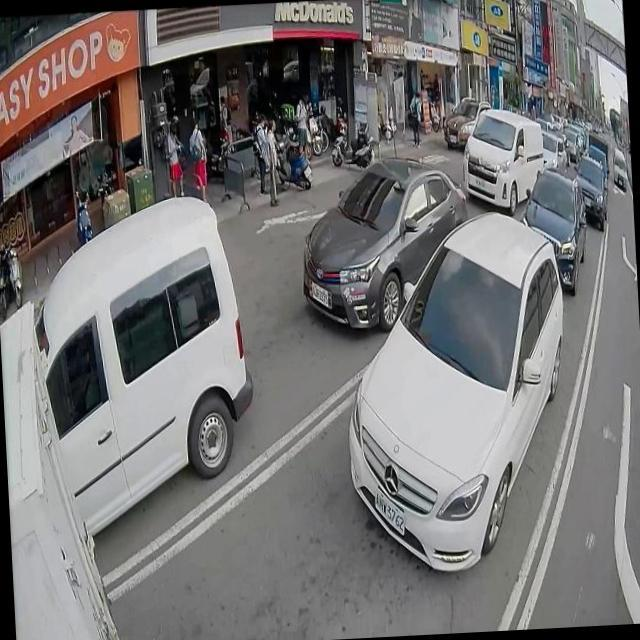person: (186, 116, 210, 206), (256, 117, 280, 204), (162, 117, 184, 196), (249, 116, 269, 190), (293, 91, 312, 160), (408, 92, 420, 148), (219, 95, 231, 138)
